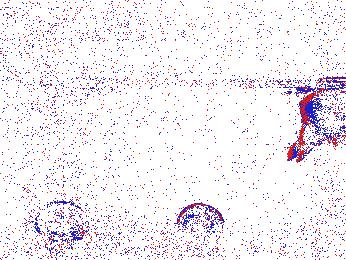flame jellyfish: (287, 85, 346, 161), (35, 200, 89, 252), (172, 203, 231, 246)
